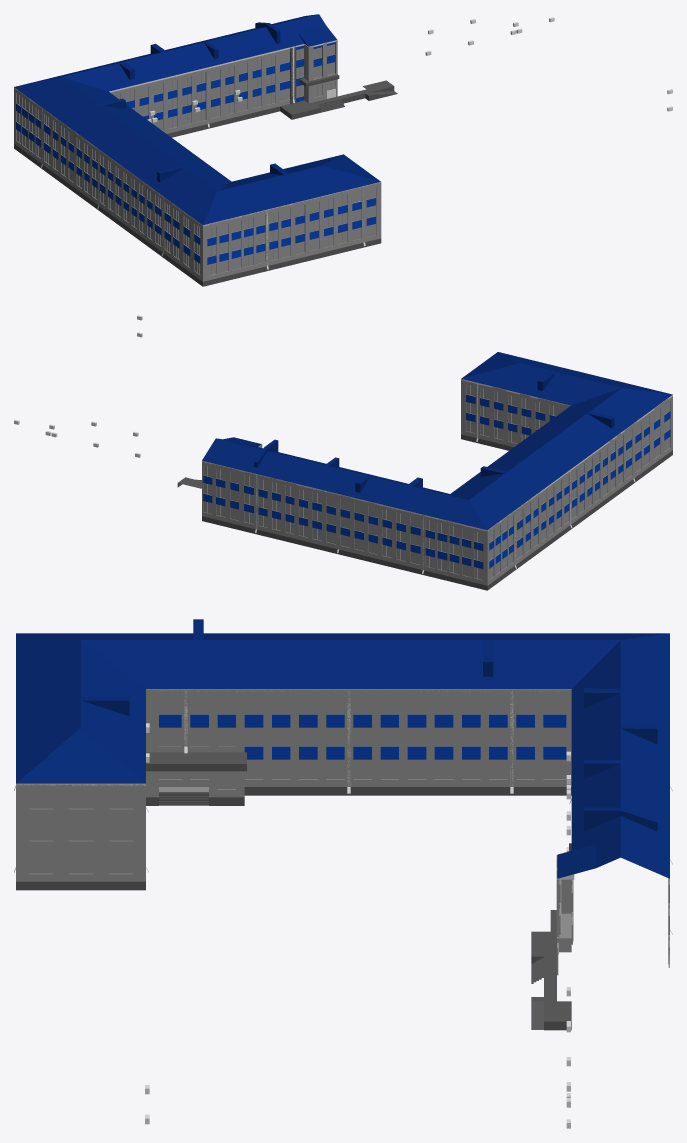
The model's file is newVIRO.glb.
The picture shows the model from 3 angles, top to bottom: view 1: azimuth 30°, elevation 25°; view 2: azimuth 150°, elevation 25°; view 3: azimuth 270°, elevation 25°; orthographic projection. The views are drawn at different scales.
Visible parts, largest first — view 1: Плоскость, Плоскость.004, Плоскость.008, Плоскость.007, Плоскость.003; view 2: Плоскость, Плоскость.004, Плоскость.007, Плоскость.003; view 3: Плоскость.004, Плоскость, Плоскость.008, Плоскость.003, Плоскость.005.
Boxes of the visible parts, x1=… form: Плоскость: x1=14, y1=40, x2=381, y2=286; Плоскость.004: x1=14, y1=14, x2=380, y2=225; Плоскость.008: x1=280, y1=80, x2=397, y2=119; Плоскость.007: x1=19, y1=49, x2=342, y2=274; Плоскость.003: x1=14, y1=40, x2=380, y2=225; Плоскость: x1=202, y1=379, x2=672, y2=590; Плоскость.004: x1=202, y1=352, x2=672, y2=530; Плоскость.007: x1=207, y1=385, x2=668, y2=578; Плоскость.003: x1=202, y1=379, x2=672, y2=531; Плоскость.004: x1=16, y1=619, x2=669, y2=878; Плоскость: x1=16, y1=690, x2=669, y2=975; Плоскость.008: x1=531, y1=931, x2=571, y2=1030; Плоскость.003: x1=16, y1=689, x2=571, y2=786; Плоскость.005: x1=14, y1=690, x2=672, y2=934.
Bounding box in the file's own units: 7.95 × 1.14 × 5.12.
